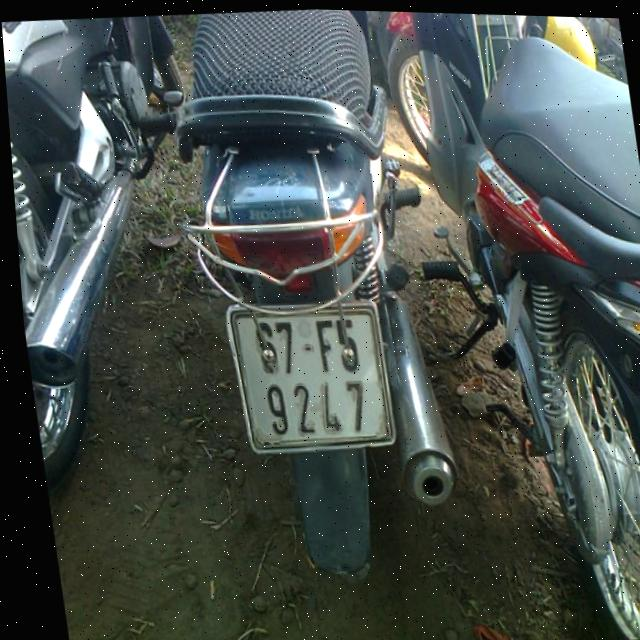motorcycle: (151, 4, 481, 595), (379, 11, 640, 640), (1, 10, 231, 494)
plate: (215, 286, 402, 461)
